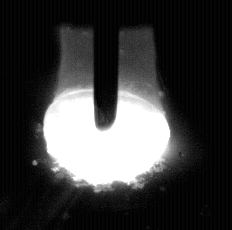arame: (95, 0, 119, 130)
poca: (43, 0, 172, 230)
